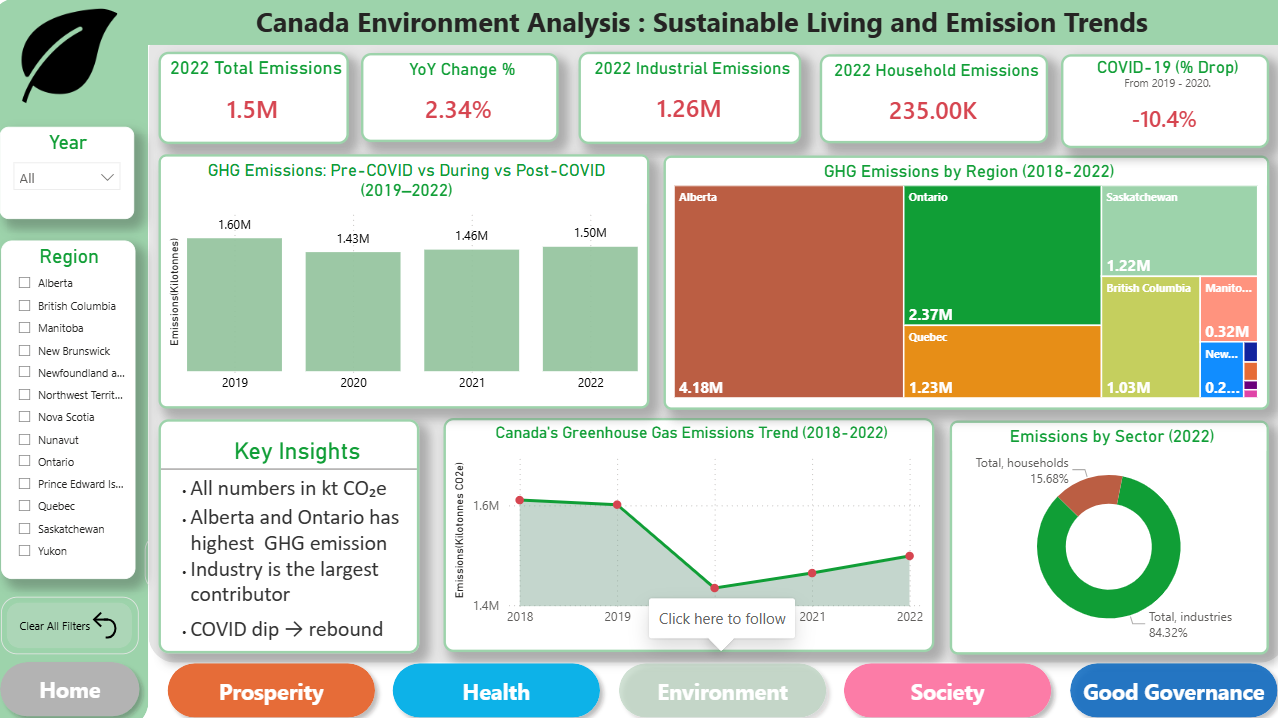

The page's visual inventory and layout, read from the dashboard file:
{"tool":"powerbi","page":{"name":"Environment","canvas":[1280,720],"ordinal":3},"visuals":[{"type":"shape","box":[0,0,155.6,720.4],"z":0},{"type":"actionButton","title":"Clear All Filters","box":[151.4,529.8,124.7,56.1],"z":1000},{"type":"shape","box":[155.6,26.6,1124.1,629.3],"z":2000},{"type":"lineChart","title":"Canada''s Greenhouse Gas Emissions Trend (2018-2022)","fields":{"Category":["GHG-Emissions - Environment dataset.REF_DATE"],"Y":["Sum(GHG-Emissions - Environment dataset.VALUE)"]},"box":[447.1,414.9,484.9,231.3],"z":3000},{"type":"cardVisual","title":"2022 Total Emissions","fields":{"Data":["GHG.Total Emissions Latest"]},"box":[165.4,53.3,187.8,91.1],"z":4000},{"type":"cardVisual","title":"YoY Change %","fields":{"Data":["GHG.YoY Change %"]},"box":[365.8,54.7,194.8,88.3],"z":5000},{"type":"cardVisual","title":"2022 Industrial Emissions","fields":{"Data":["GHG.Industrial Emissions Latest"]},"box":[580.2,53.3,220,91.1],"z":6000},{"type":"cardVisual","title":"2022 Household Emissions","fields":{"Data":["GHG.Household Emissions Latest1"]},"box":[818.5,56.1,225.7,88.3],"z":7000},{"type":"columnChart","title":"GHG Emissions: Pre-COVID vs During vs Post-COVID (2019–2022)","fields":{"Category":["GHG.REF_DATE"],"Y":["Sum(GHG.VALUE)"]},"box":[165.4,154.2,484.9,250.9],"z":8000},{"type":"donutChart","title":"Emissions by Sector (2022)","fields":{"Category":["GHG.Sector"],"Y":["Sum(GHG.VALUE)"]},"box":[947.5,417.7,315.4,231.3],"z":9000},{"type":"treemap","title":"GHG Emissions by Region (2018-2022)","fields":{"Group":["GHG.GEO"],"Values":["Sum(GHG.VALUE)"]},"box":[664.3,155.6,598.5,250.9],"z":10000},{"type":"textbox","title":"Key Insights ","box":[165.4,416.3,257.9,231.3],"z":11000},{"type":"cardVisual","title":"COVID-19 (% Drop) ","fields":{"Data":["GHG.COVID Drop %"]},"box":[1057.1,55.7,205.7,92.9],"z":12000},{"type":"slicer","title":"Region","fields":{"Values":["GHG.GEO"]},"box":[10,240,132.9,334.3],"z":13000},{"type":"slicer","title":"Year","fields":{"Values":["GHG.REF_DATE"]},"box":[8.6,127.1,132.9,91.4],"z":14000},{"type":"image","box":[5.6,9.8,145.8,98.1],"z":15000},{"type":"actionButton","box":[165.4,648.5,222.8,71.5],"z":16000},{"type":"actionButton","box":[388.2,648.5,222.8,71.5],"z":17000},{"type":"actionButton","box":[611.1,648.5,222.8,71.5],"z":18000},{"type":"actionButton","box":[833.9,648.5,222.8,71.5],"z":19000},{"type":"actionButton","box":[1056.8,648.5,222.8,71.5],"z":20000},{"type":"actionButton","box":[0,647.5,155.6,71.5],"z":21000},{"type":"textbox","box":[124.7,0,1154.9,46.3],"z":22000},{"type":"actionButton","title":"Clear All Filters","box":[10,591.4,135.7,57.1],"z":23000}]}

Visuals, with their boxes in screenshot pixels (x1, y1, x2, y2), scaled from the page's 1280x720 canvas onto the 1278x718 screenshot:
shape: 0/0/155/717
"Clear All Filters" actionButton: 151/528/276/584
shape: 155/27/1277/654
"Canada''s Greenhouse Gas Emissions Trend (2018-2022)" lineChart: 446/414/931/644
"2022 Total Emissions" cardVisual: 165/53/353/144
"YoY Change %" cardVisual: 365/55/560/143
"2022 Industrial Emissions" cardVisual: 579/53/799/144
"2022 Household Emissions" cardVisual: 817/56/1043/144
"GHG Emissions: Pre-COVID vs During vs Post-COVID (2019–2022)" columnChart: 165/154/649/404
"Emissions by Sector (2022)" donutChart: 946/417/1261/647
"GHG Emissions by Region (2018-2022)" treemap: 663/155/1261/405
"Key Insights " textbox: 165/415/423/646
"COVID-19 (% Drop) " cardVisual: 1055/56/1261/148
"Region" slicer: 10/239/143/573
"Year" slicer: 9/127/141/218
image: 6/10/151/108
actionButton: 165/647/388/717
actionButton: 388/647/610/717
actionButton: 610/647/833/717
actionButton: 833/647/1055/717
actionButton: 1055/647/1277/717
actionButton: 0/646/155/717
textbox: 125/0/1277/46
"Clear All Filters" actionButton: 10/590/145/647
